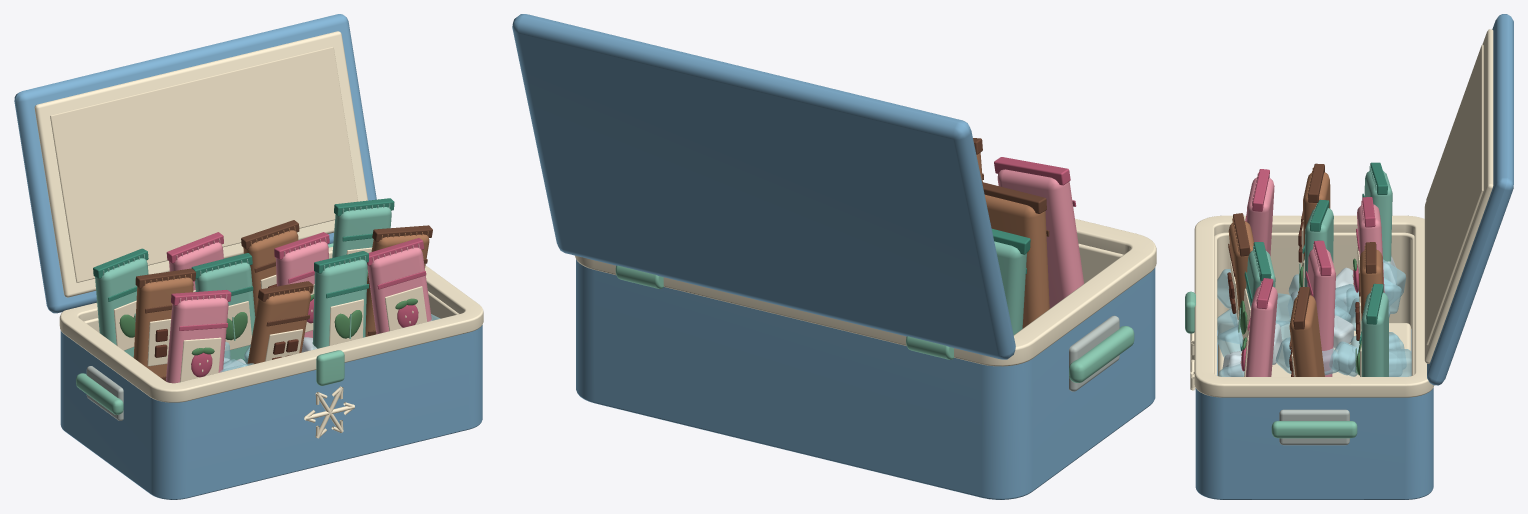
Rendered from icebox_stocked.glb.
3 renders of one model, left to right at view 1: azimuth 30°, elevation 25°; view 2: azimuth 150°, elevation 25°; view 3: azimuth 270°, elevation 25°, orthographic. The views are drawn at different scales.
Parts seen in each view (by area): view 1: Recessed lid center.001, Blue insulated shell.001, Rounded blue lid.001, Thick cream rim.001, Insulating lid liner.001, Sealed plastic pack.003, Sealed plastic pack.005, Sealed plastic pack.006, Sealed plastic pack.004, Sealed plastic pack.007, Sealed plastic pack.011, Sealed plastic pack.008 (+28 smaller); view 2: Rounded blue lid.001, Blue insulated shell.001, Thick cream rim.001, Sealed plastic pack.003, Sealed plastic pack.007, Sealed plastic pack.011, Carrying grip.002, Handle bracket.002, Crimped end.007, Cream inner walls.001, Crimped end.015; view 3: Blue insulated shell.001, Thick cream rim.001, Recessed lid center.001, Rounded blue lid.001, Cream inner walls.001, Insulating lid liner.001, Sealed plastic pack.006, Sealed plastic pack.009, Sealed plastic pack.010, Sealed plastic pack.014, Cream inner floor.001, Carrying grip.003 (+35 smaller).
Part boxes in pixels (<box>): Recessed lid center.001: <box>50,46,357,282</box>; Blue insulated shell.001: <box>60,325,482,499</box>; Rounded blue lid.001: <box>14,14,376,313</box>; Thick cream rim.001: <box>59,247,483,402</box>; Insulating lid liner.001: <box>34,31,367,297</box>; Sealed plastic pack.003: <box>166,297,228,383</box>; Sealed plastic pack.005: <box>312,259,367,349</box>; Sealed plastic pack.006: <box>367,247,431,334</box>; Sealed plastic pack.004: <box>247,290,310,364</box>; Sealed plastic pack.007: <box>133,277,193,381</box>; Sealed plastic pack.011: <box>95,258,148,357</box>; Sealed plastic pack.008: <box>195,262,255,363</box>; Rounded blue lid.001: <box>512,14,1015,359</box>; Blue insulated shell.001: <box>576,259,1155,499</box>; Thick cream rim.001: <box>575,219,1156,366</box>; Sealed plastic pack.003: <box>997,169,1083,308</box>; Sealed plastic pack.007: <box>984,194,1049,328</box>; Sealed plastic pack.011: <box>994,241,1026,334</box>; Carrying grip.002: <box>1069,326,1134,382</box>; Handle bracket.002: <box>1069,315,1119,391</box>; Crimped end.007: <box>994,157,1070,185</box>; Cream inner walls.001: <box>1078,243,1123,283</box>; Crimped end.015: <box>982,182,1046,213</box>; Blue insulated shell.001: <box>1195,388,1433,499</box>; Thick cream rim.001: <box>1194,215,1434,397</box>; Recessed lid center.001: <box>1426,44,1483,345</box>; Rounded blue lid.001: <box>1427,14,1513,385</box>; Cream inner walls.001: <box>1214,232,1414,375</box>; Insulating lid liner.001: <box>1424,29,1493,363</box>; Sealed plastic pack.006: <box>1245,286,1277,376</box>; Sealed plastic pack.009: <box>1307,249,1335,376</box>; Sealed plastic pack.010: <box>1289,295,1324,376</box>; Sealed plastic pack.014: <box>1361,292,1388,376</box>; Cream inner floor.001: <box>1218,323,1411,376</box>; Carrying grip.003: <box>1271,421,1357,438</box>.
Size of the model in its own units: 4.53 by 3.76 by 3.45.
